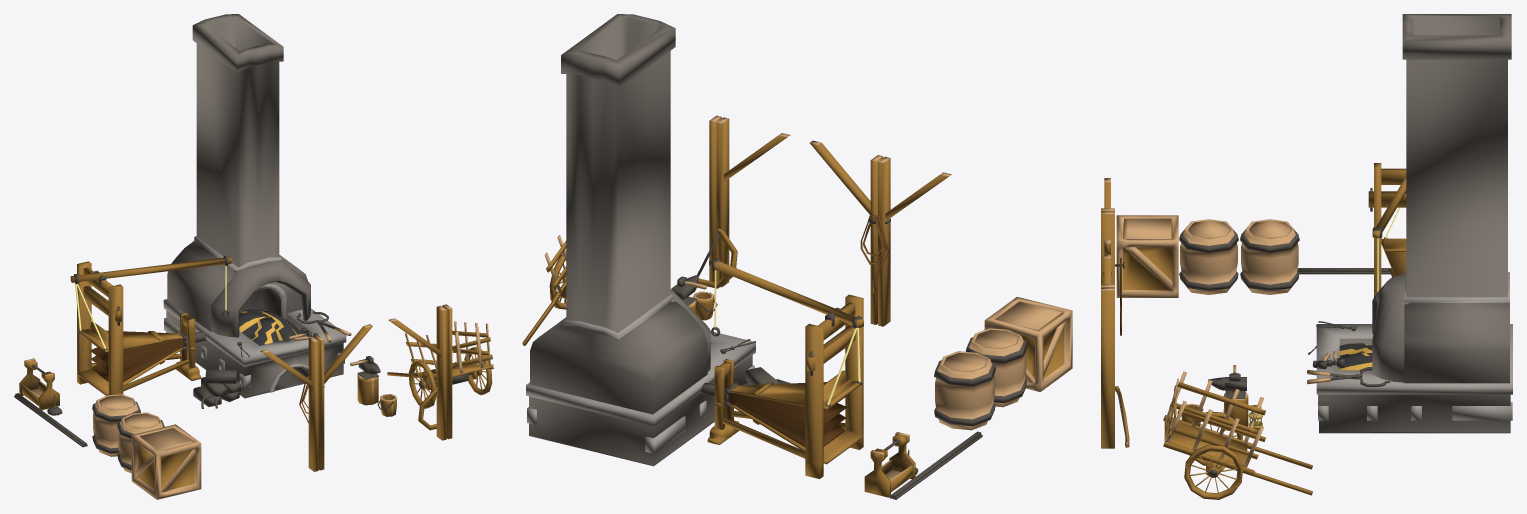
Rendered from shop_bs_workarea.fbx.
3 views of the same model, side by side, from view 1: azimuth 30°, elevation 25°; view 2: azimuth 150°, elevation 25°; view 3: azimuth 270°, elevation 25° (orthographic). The views are drawn at different scales.
Visible parts, largest first — view 1: Empty_Mesh; view 2: Empty_Mesh; view 3: Empty_Mesh.
Part boxes in pixels (bbox=[...]): Empty_Mesh: bbox=[14, 14, 493, 499]; Empty_Mesh: bbox=[522, 14, 1072, 499]; Empty_Mesh: bbox=[1101, 14, 1512, 499].
Size of the model in its own units: 41.32 by 34.7 by 33.13.
